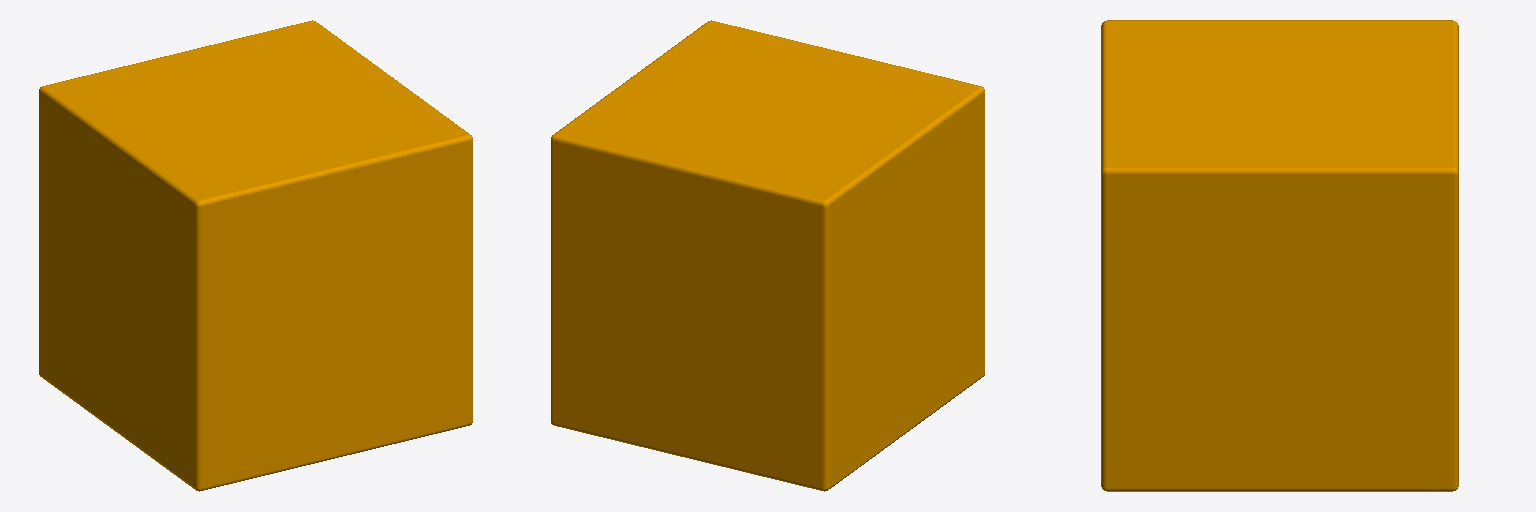
robot.urdf — Rubicks Cube:
<?xml version="1.0"?>
<robot name="Rubicks Cube">
  <link name="base_link">
    <inertial>
      <origin xyz="-0.000000 0.000000 0.028500" rpy="0 0 0" />
      <mass value="0.185082" />
      <inertia ixx="0.00010014" ixy="-0.00000000" ixz="0.00000000"
               iyy="0.00010014" iyz="0.00000000" izz="0.00010014" />
    </inertial>
    <visual>
      <geometry><mesh filename="Rubicks Cube.stl" scale="1.0 1.0 1.0" /></geometry>
    </visual>
    <collision>
      <geometry><mesh filename="Rubicks Cube_col.obj" scale="1.0 1.0 1.0" /></geometry>
    </collision>
    <contact>
      <lateral_friction value="1.0"/>
    </contact>
  </link>
</robot>

--- Facts derived from the render (not from the file) ---
The picture shows the robot from 3 angles, left to right: view 1: azimuth 30°, elevation 25°; view 2: azimuth 150°, elevation 25°; view 3: azimuth 270°, elevation 25°; orthographic projection.
Model Rubicks Cube with 1 links and 0 joints (none), rooted at base_link, posed all joints at 0.
Visible links, largest first — view 1: base_link; view 2: base_link; view 3: base_link.
Boxes of the visible links, x1,y1,x2,y2 form: base_link: (39, 20, 472, 491); base_link: (551, 20, 984, 491); base_link: (1101, 20, 1458, 491).
Size in the robot's own frame: 0.057 by 0.057 by 0.057 metres.
1 mesh visuals loaded from 1 distinct referenced files (1 binary STL).
